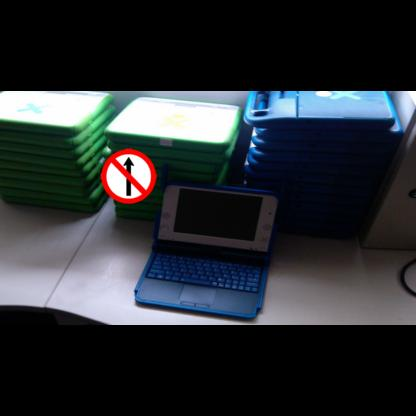R-3: (101, 149, 156, 204)
